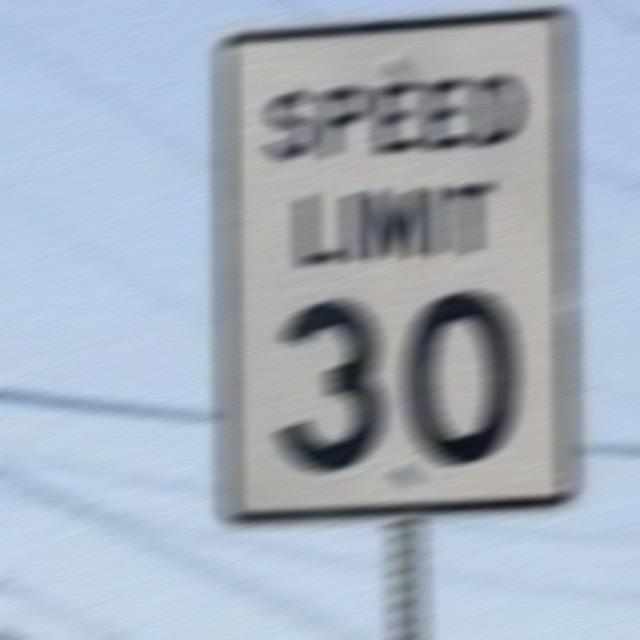speedLimit30: (226, 16, 569, 521)
